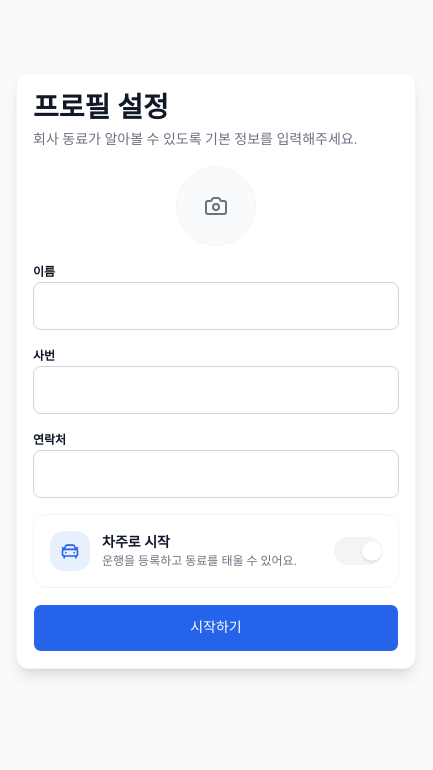
로그인/온보딩 플로우 › 프로필 설정에서 차주 토글 시 차량 정보 입력 폼을 노출한다
Check: the heading "프로필 설정" is shown, box [33,92,169,123]
Check: the field labelled "차량 모델" is not shown
Step 1. Click the switch named "차주로 시작" → (358,551), box [334,537,382,565]
(page scrolled)
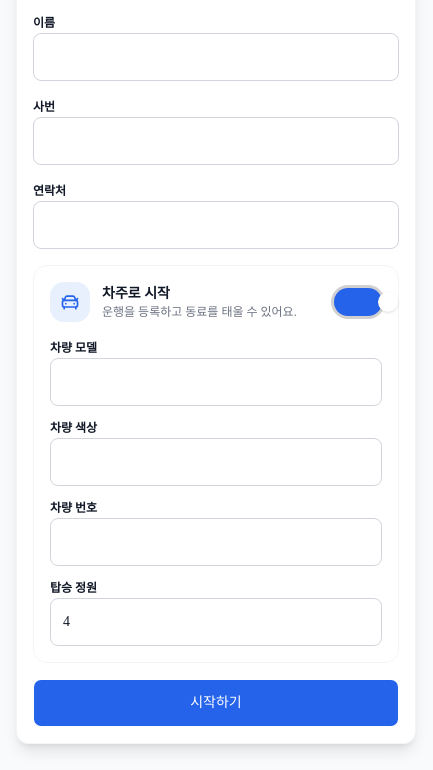
Check: the field labelled "차량 모델" is shown, box [50,358,382,406]
Check: the field labelled "차량 색상" is shown, box [50,438,382,486]
Check: the field labelled "차량 번호" is shown, box [50,518,382,566]
